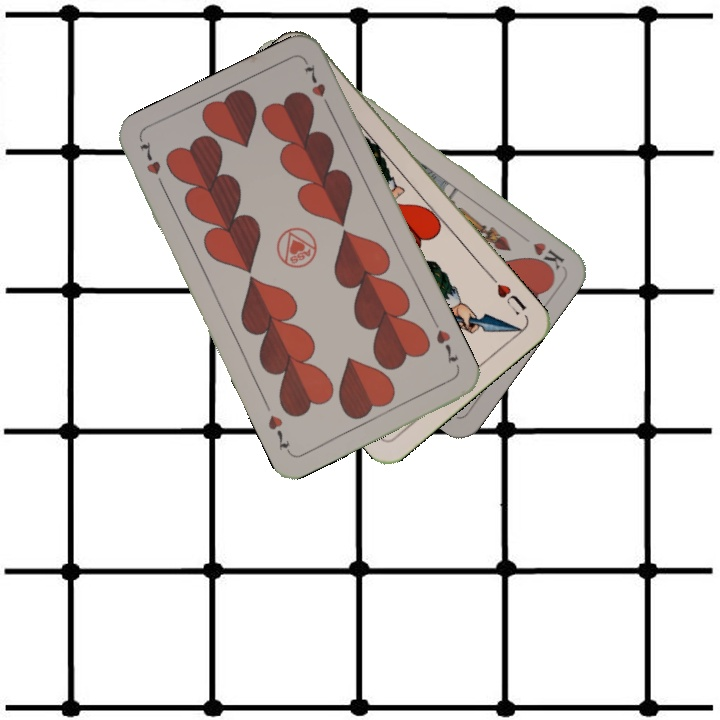H7: (135, 137, 168, 193), (432, 325, 461, 367)
HK: (528, 238, 568, 272)
HU: (486, 271, 529, 318)
